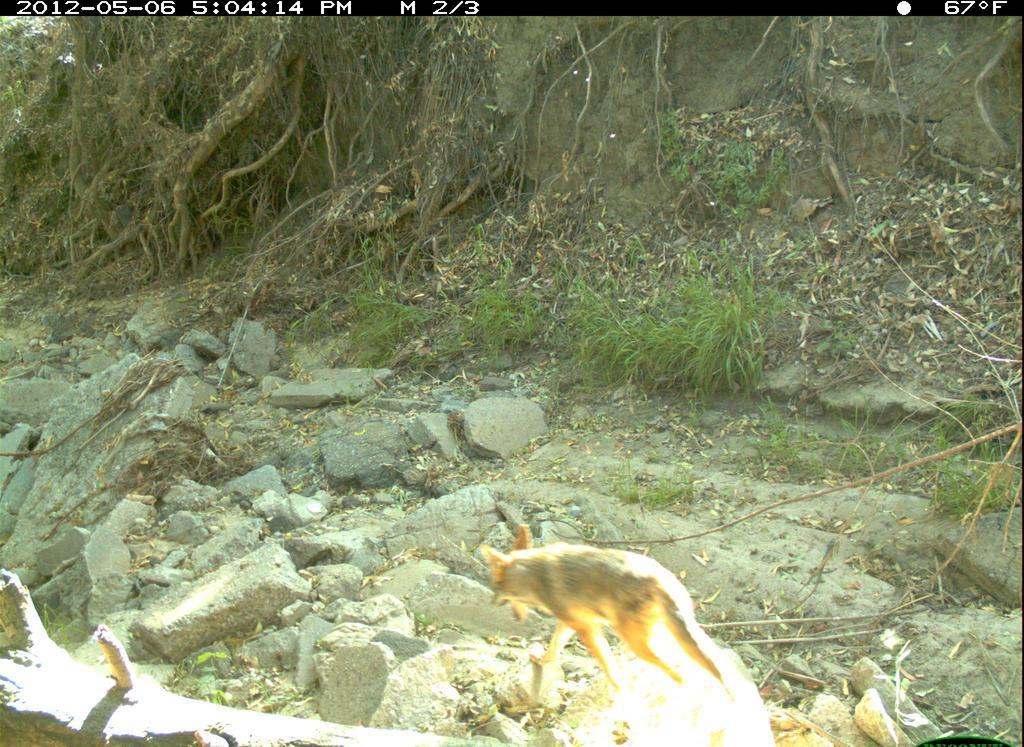coyote: (477, 523, 745, 740)
